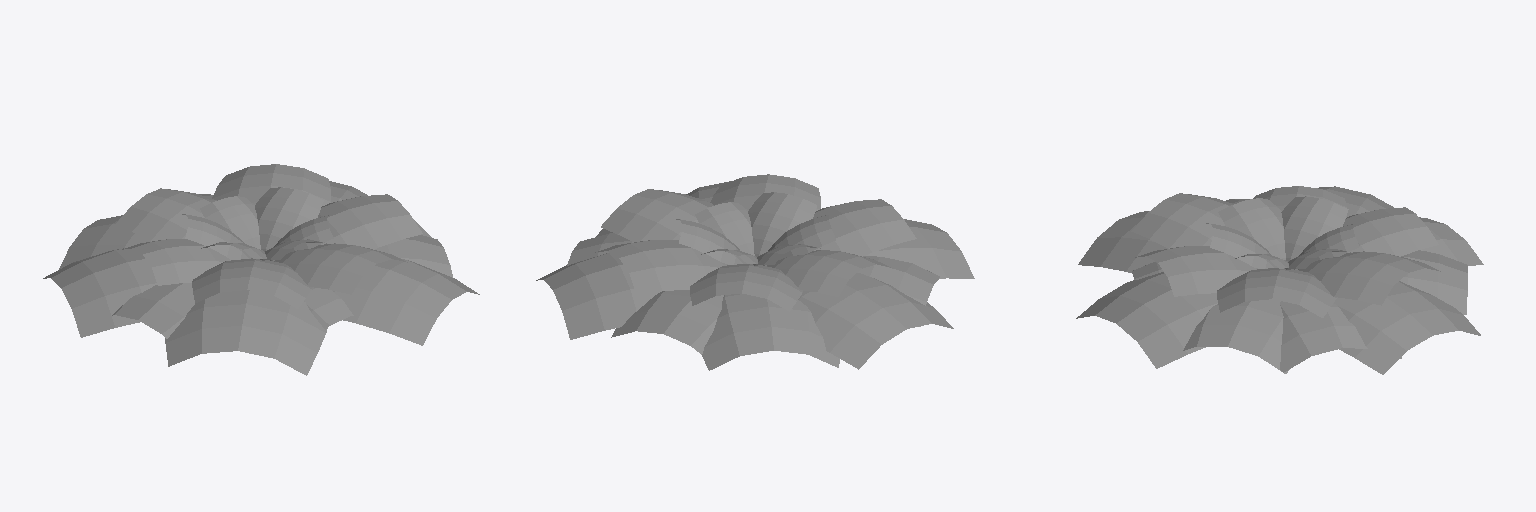
File: Foliage_Plant_Fern.obj
The picture shows the model from 3 angles: view 1: azimuth 30°, elevation 25°; view 2: azimuth 150°, elevation 25°; view 3: azimuth 270°, elevation 25°; orthographic projection.
Visible parts, largest first — view 1: Plane005, Plane007, Plane003, Plane016, Plane014, Plane015, Plane012, Plane011, Plane013, Plane018, Plane004, Plane002 (+5 smaller); view 2: Plane003, Plane002, Plane010, Plane011, Plane014, Plane001, Plane016, Plane012, Plane005, Plane013, Plane022, Plane015 (+5 smaller); view 3: Plane007, Plane010, Plane008, Plane011, Plane014, Plane009, Plane016, Plane015, Plane012, Plane005, Plane020, Plane001 (+6 smaller).
Boxes of the visible parts, x1,y1,x2,y2 form: Plane005: [165, 290, 327, 375]; Plane007: [333, 258, 479, 345]; Plane003: [43, 248, 156, 337]; Plane016: [318, 194, 422, 249]; Plane014: [192, 258, 312, 308]; Plane015: [274, 243, 407, 294]; Plane012: [115, 188, 216, 241]; Plane011: [212, 164, 330, 205]; Plane013: [122, 239, 230, 285]; Plane018: [255, 187, 323, 251]; Plane004: [112, 283, 194, 338]; Plane002: [59, 215, 150, 269]; Plane003: [798, 273, 953, 369]; Plane002: [702, 294, 839, 370]; Plane010: [536, 253, 661, 339]; Plane011: [595, 240, 727, 293]; Plane014: [813, 199, 916, 256]; Plane001: [611, 290, 723, 354]; Plane016: [601, 189, 713, 241]; Plane012: [690, 264, 802, 311]; Plane005: [866, 219, 974, 278]; Plane013: [767, 250, 890, 296]; Plane022: [748, 192, 816, 256]; Plane015: [710, 174, 820, 211]; Plane007: [1076, 272, 1217, 368]; Plane010: [1334, 281, 1480, 374]; Plane008: [1183, 299, 1289, 373]; Plane011: [1298, 251, 1440, 305]; Plane014: [1131, 193, 1233, 248]; Plane009: [1280, 301, 1401, 372]; Plane016: [1217, 268, 1336, 317]; Plane015: [1135, 246, 1257, 296]; Plane012: [1343, 207, 1438, 256]; Plane005: [1078, 211, 1167, 272]; Plane020: [1281, 196, 1348, 261]; Plane001: [1400, 250, 1467, 314].
Size of the model in its own units: 170 by 30.87 by 166.